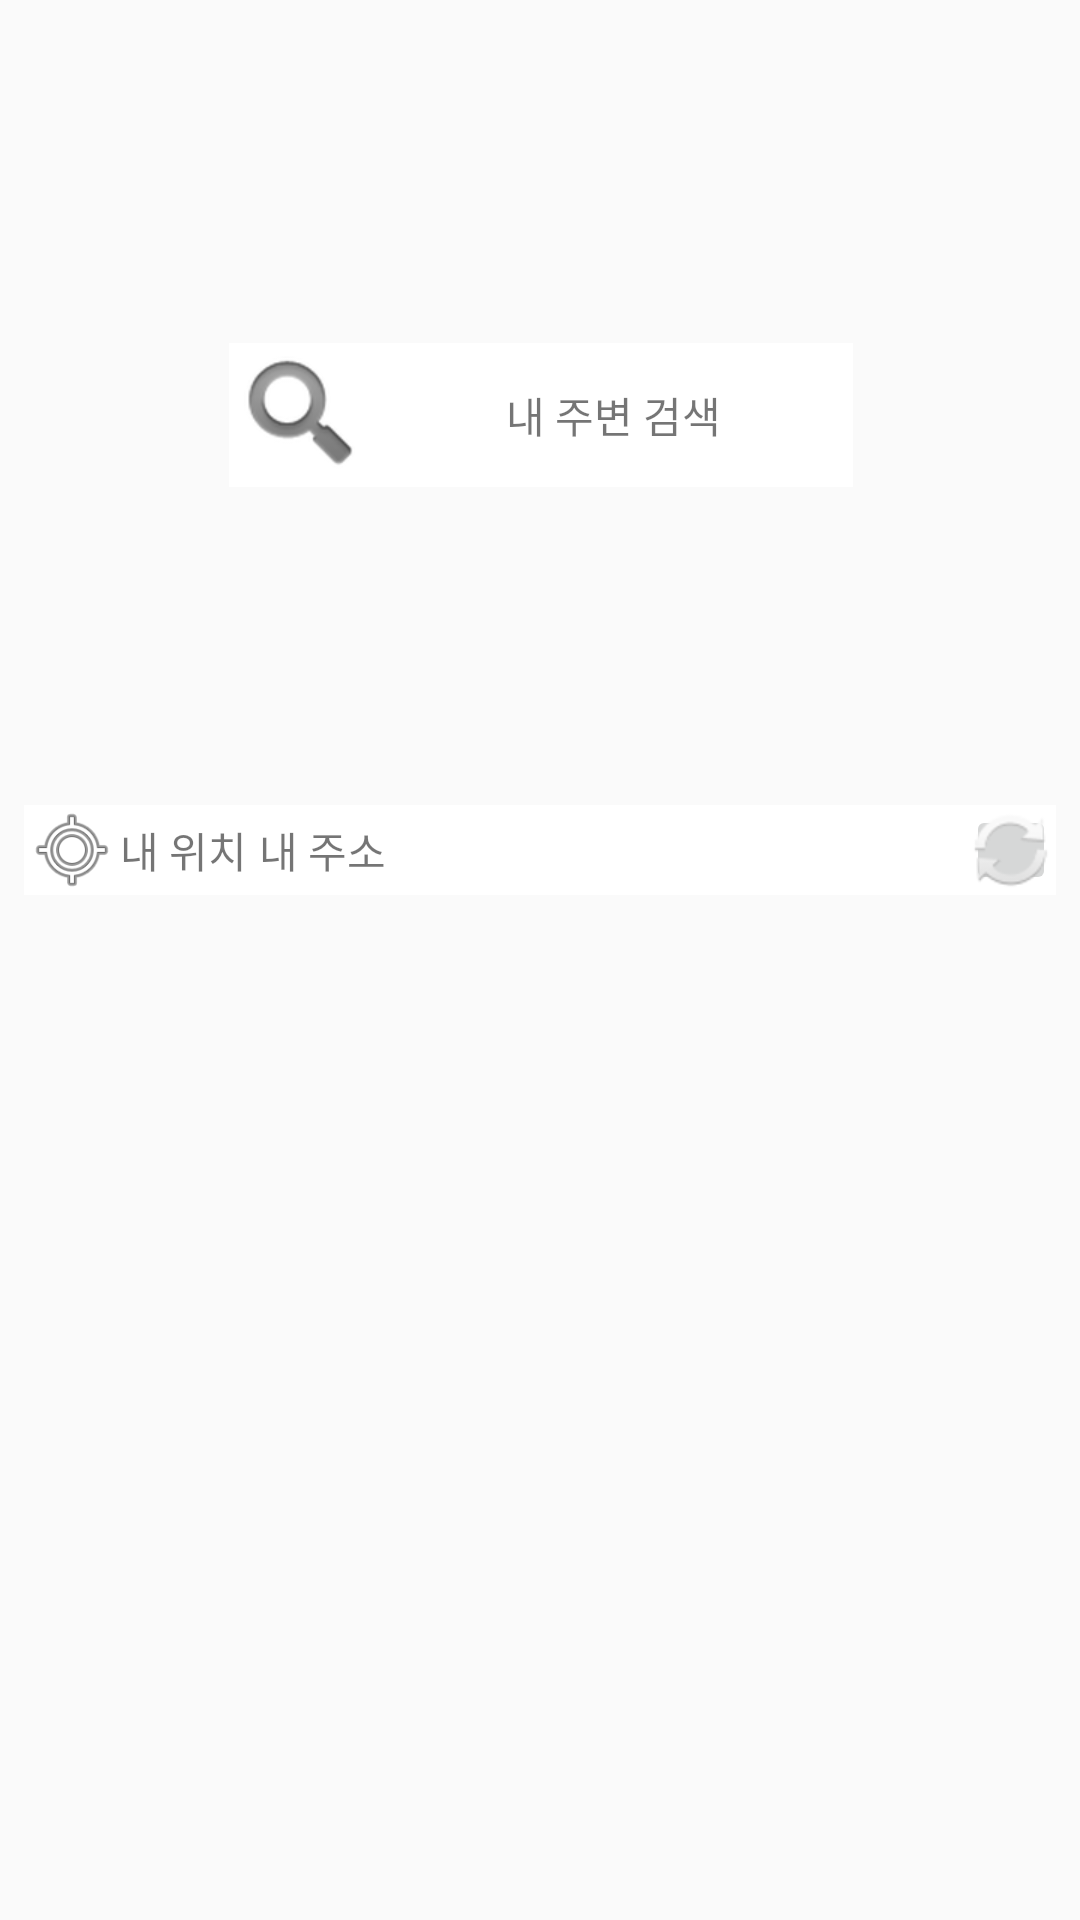

Screen size 1080w x 1920h. Icon name, then its box in pixels as box=[x1, y1, x2, y2]:
mylocation: box=[36, 814, 108, 886]
popup sync: box=[975, 823, 1046, 886]
search category: box=[248, 360, 352, 464]
